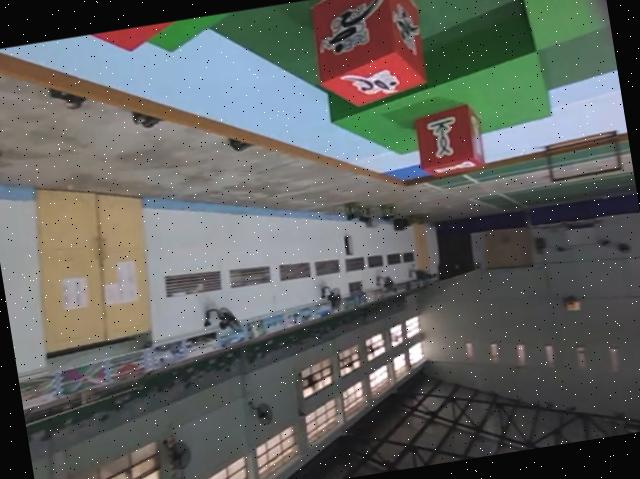R1: (308, 0, 430, 112)
R2 Real: (411, 101, 488, 180)
